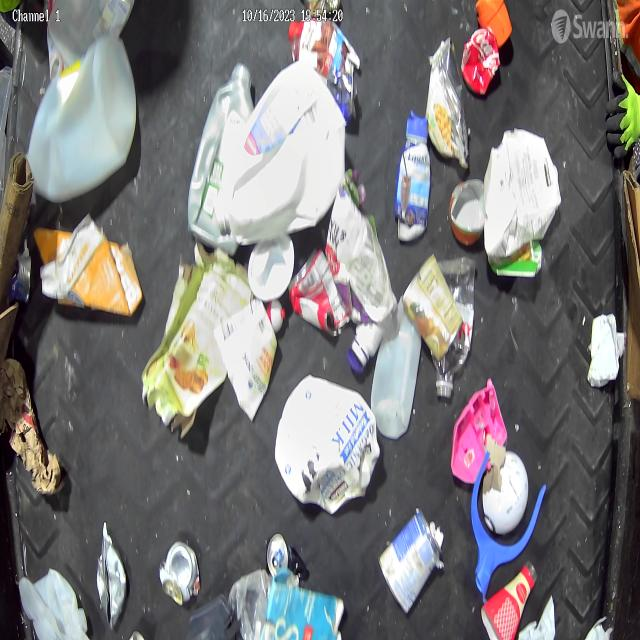can: (379, 506, 445, 622), (397, 254, 466, 358), (288, 248, 352, 346), (155, 532, 209, 610), (95, 524, 127, 638), (456, 21, 502, 100), (446, 172, 491, 250), (264, 535, 319, 583)
milk_jug: (220, 56, 347, 236), (23, 27, 139, 200), (272, 371, 380, 508), (482, 120, 562, 268), (372, 294, 423, 443), (41, 0, 134, 81), (11, 560, 91, 640)
non_white_jug: (183, 62, 264, 268)
plastic_bottle: (436, 258, 482, 408)
